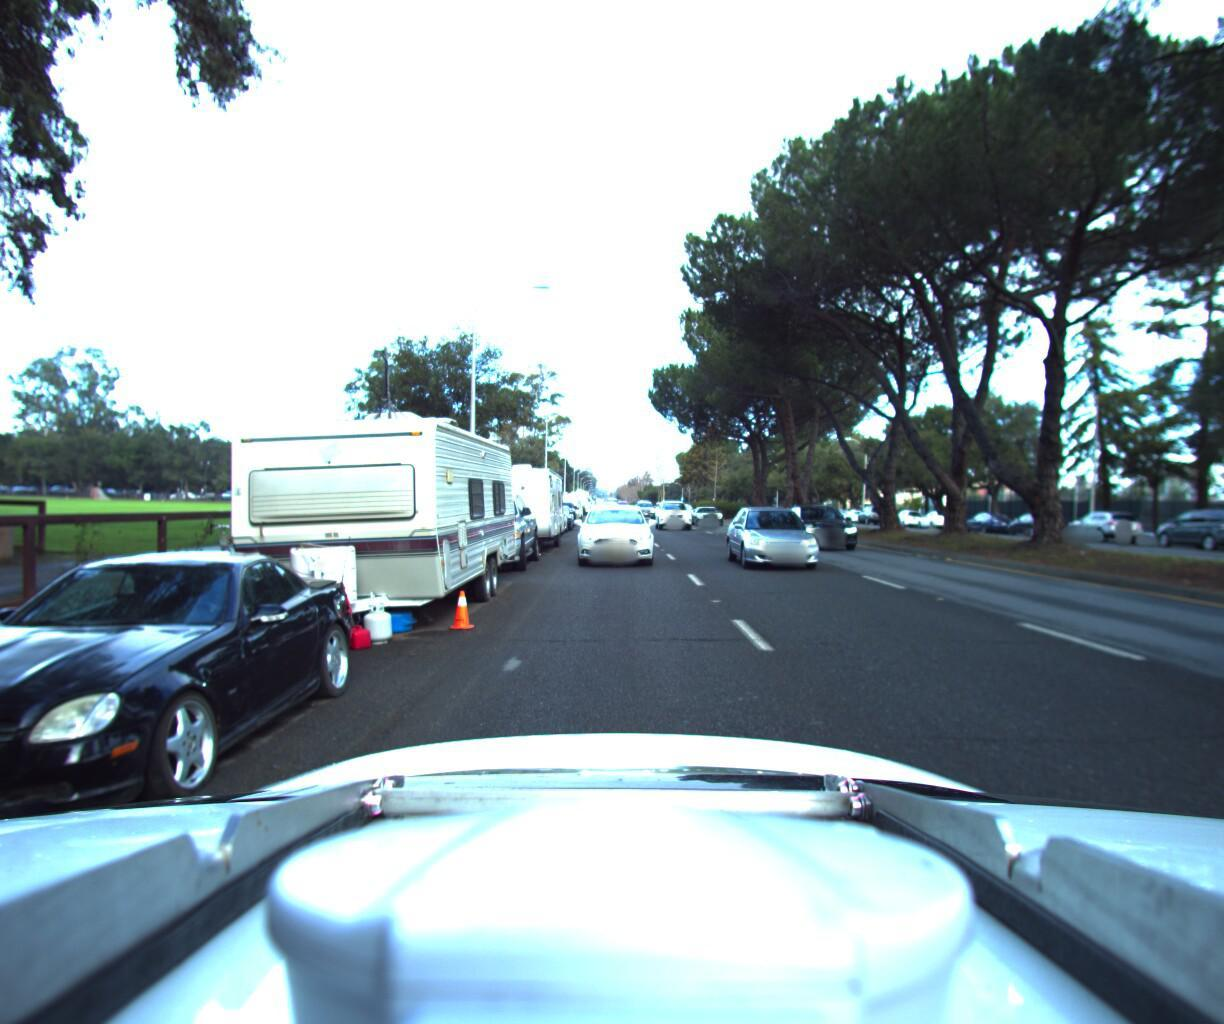car: (0, 536, 372, 899), (419, 482, 543, 577), (723, 500, 846, 577), (569, 498, 658, 566), (786, 498, 880, 551), (1145, 500, 1224, 551), (1059, 502, 1147, 539), (1000, 505, 1069, 533), (958, 504, 1017, 530), (653, 496, 699, 528), (912, 503, 960, 525), (890, 502, 925, 521), (692, 499, 723, 520), (630, 493, 655, 516), (839, 502, 869, 519)
other_vehicle: (184, 382, 521, 657), (448, 454, 569, 558), (546, 485, 584, 517)
